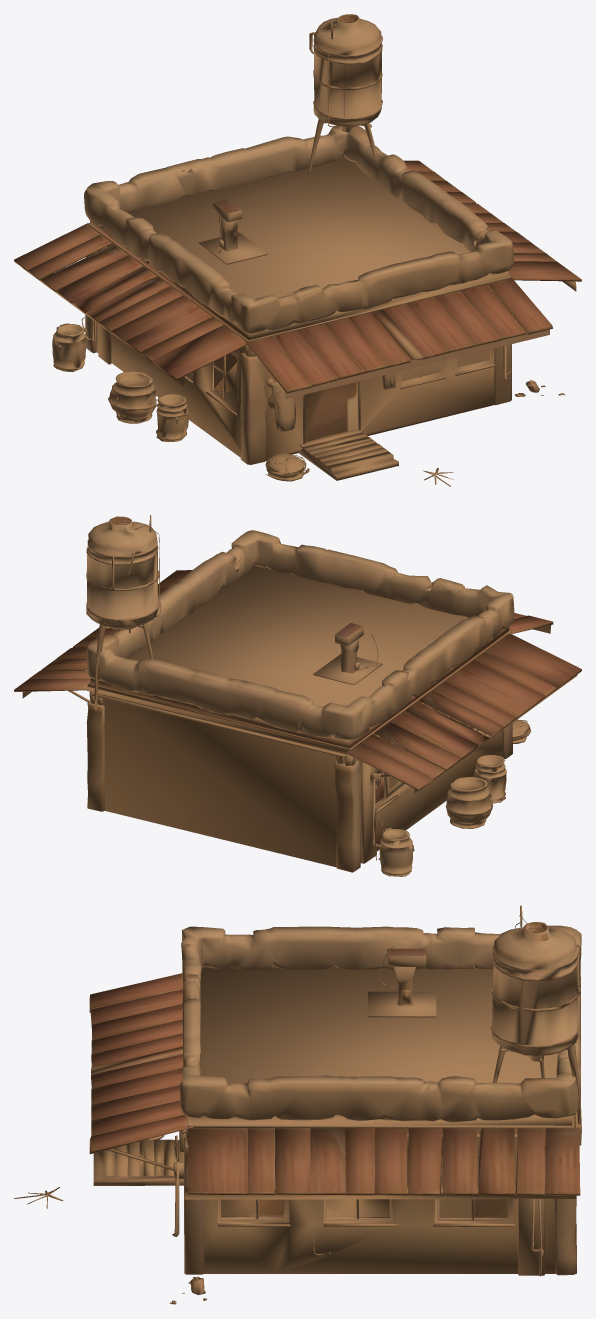
3 views of the same model, one above another, from view 1: azimuth 30°, elevation 25°; view 2: azimuth 150°, elevation 25°; view 3: azimuth 270°, elevation 25° (orthographic). The views are drawn at different scales.
Bounding box in the file's own units: 0.9414 × 0.6396 × 0.9487.
1 material, 1 textured.
